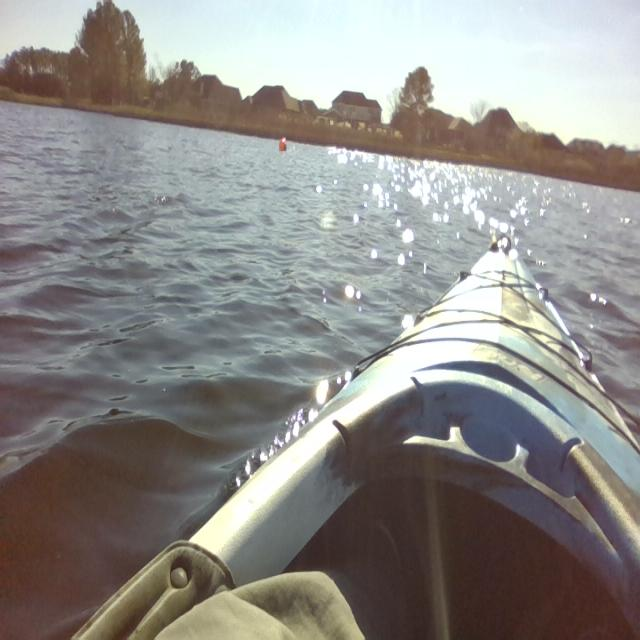Buoy: (275, 134, 292, 158)
